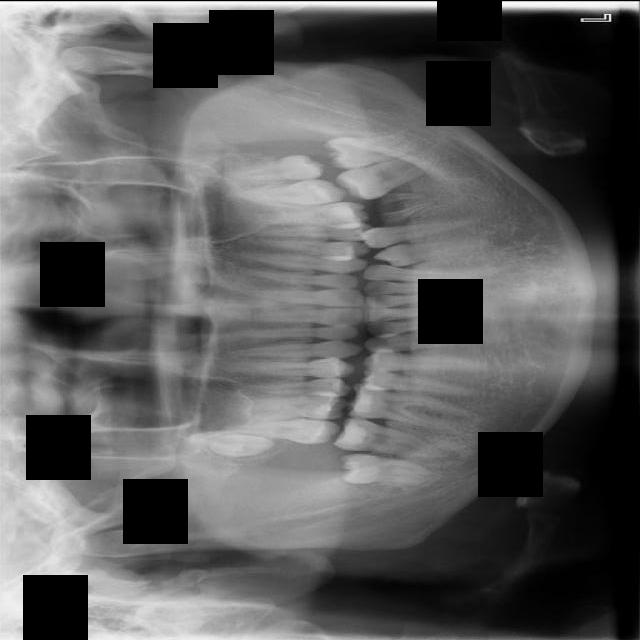3M ESPE Implant: (192, 431, 275, 456)
52: (332, 409, 380, 459), (342, 377, 391, 425), (288, 173, 348, 208), (324, 200, 370, 229), (304, 390, 347, 419), (374, 192, 399, 203), (379, 212, 401, 222)
73: (625, 6, 634, 20)
BioHorizons Implant: (224, 177, 348, 207)
BioLife Implant: (210, 152, 326, 185)
Biomet 3i Implant: (324, 128, 421, 172)
Blue Sky Bio Implant: (334, 148, 442, 206)
Caries: (220, 406, 343, 447)
Implant: (332, 414, 446, 461)
Keystone Dental Implant: (338, 452, 432, 486)
